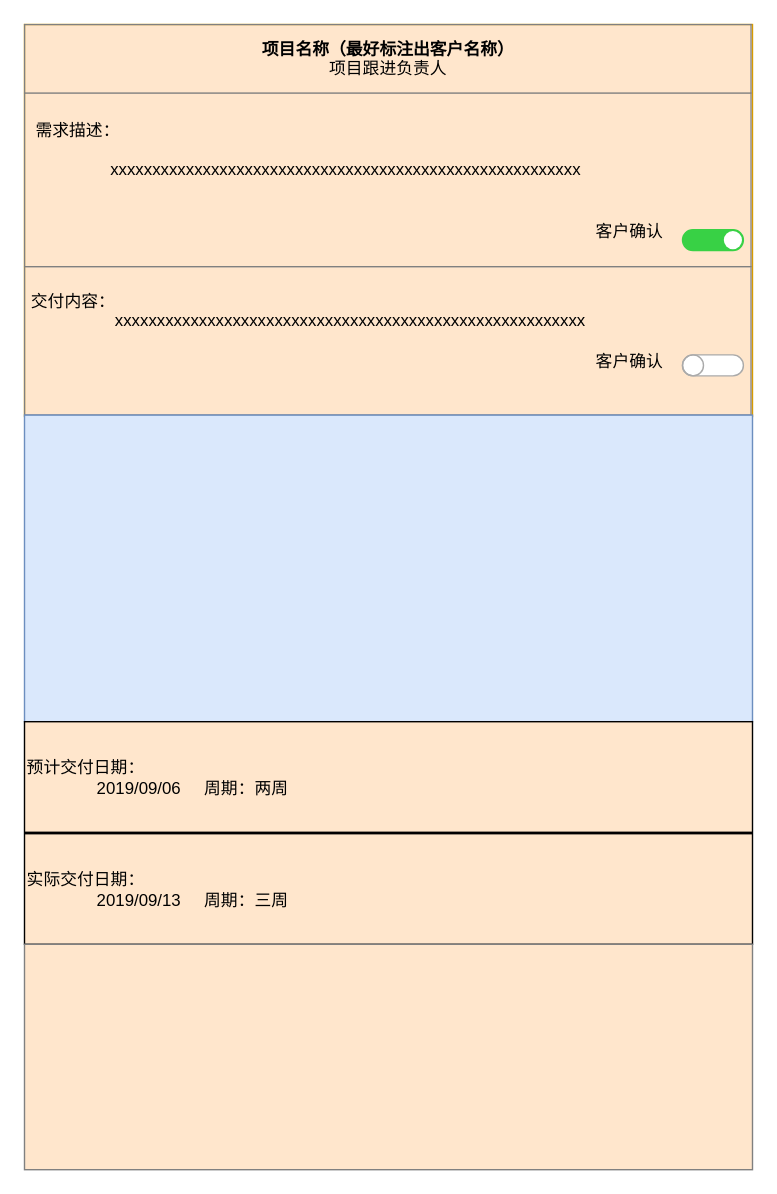
This 777x1194 diagram has some shape labels left out. The centre of each missing label's shape, as x and y in pixels:
场景约束： xxxxxxxxxxxxxxxx 限制条件： xxxxxxxxxxxxxxx: the point at 387,568
用户反馈及处理响应 Q:xxxxxxxxxxxxxx 2019/08/20 A:xxxxxxxxxxxxxxxx(已处理) 2019/08/21: the point at 387,1056
